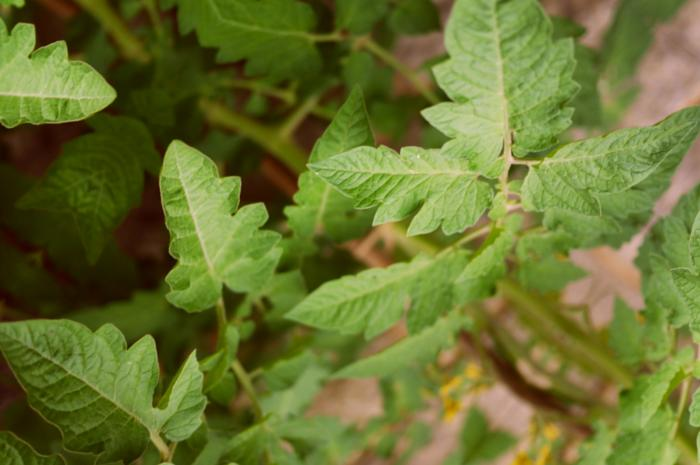Tomato leaf: (0, 225, 265, 465), (284, 58, 525, 293), (89, 120, 326, 350), (373, 0, 635, 194), (276, 182, 488, 401), (500, 49, 700, 261), (318, 264, 471, 426), (189, 431, 359, 465)
